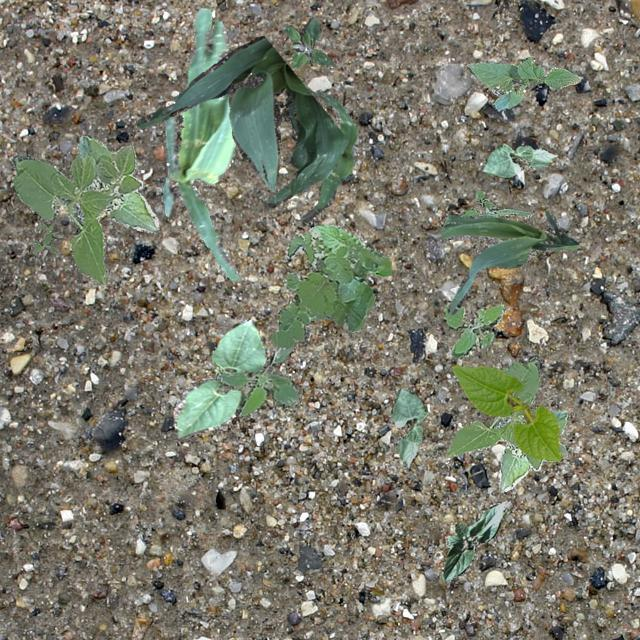crop: (136, 35, 347, 206), (11, 134, 158, 284), (160, 7, 238, 280), (446, 356, 568, 491), (440, 210, 578, 314), (172, 318, 266, 439), (452, 364, 560, 461), (300, 88, 358, 222), (464, 56, 580, 110), (440, 500, 510, 580), (391, 388, 426, 467), (482, 142, 556, 178)
weed: (270, 224, 390, 348), (215, 346, 298, 416), (444, 301, 504, 357), (284, 17, 332, 68), (458, 188, 532, 218), (31, 218, 62, 254)
